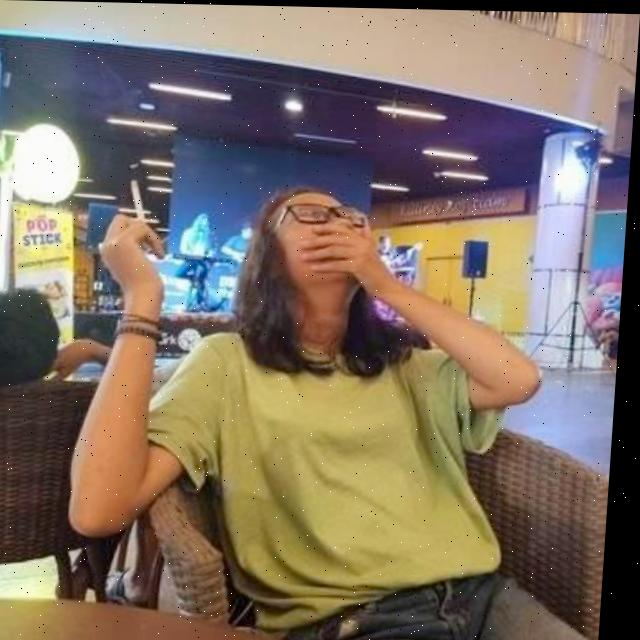cigarette: (132, 180, 150, 221)
